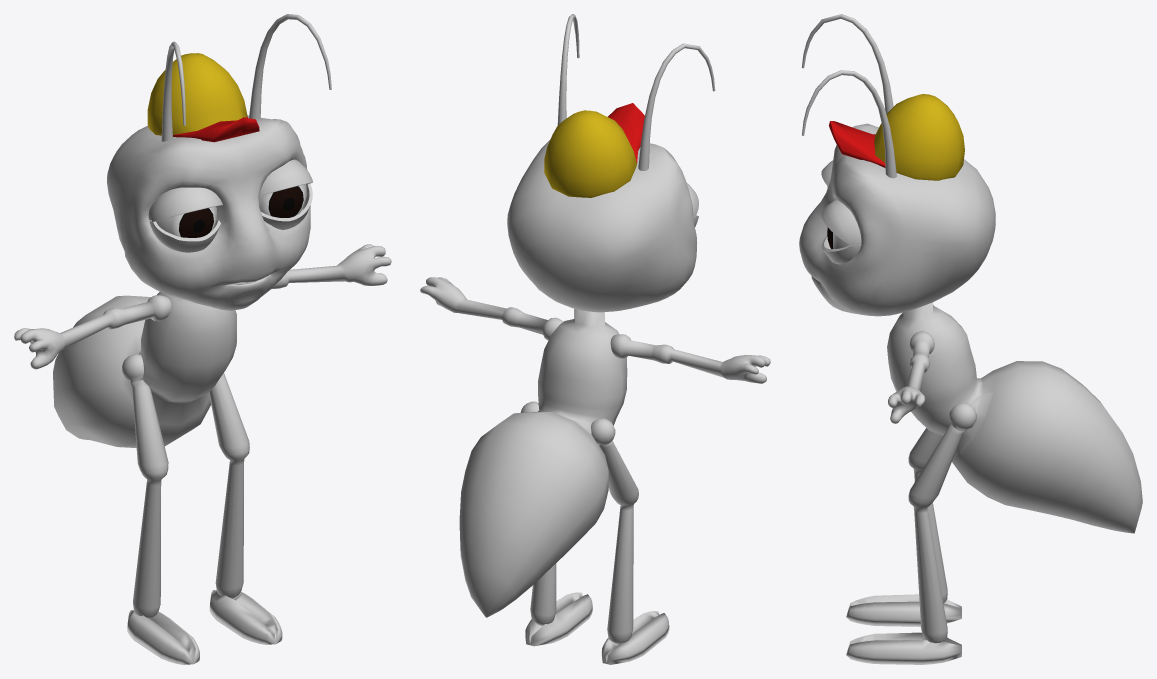
Rendered from Free_Ant_.obj.
3 views of the same model, side by side, from view 1: azimuth 30°, elevation 25°; view 2: azimuth 150°, elevation 25°; view 3: azimuth 270°, elevation 25° (orthographic). The views are drawn at different scales.
Visible parts, largest first — view 1: ANT.001_Sphere.011, Sphere_Sphere.001, eyelish.003_Sphere.008, eyeball_Sphere.002, eyeball.001_Sphere.006; view 2: ANT.001_Sphere.011, Sphere_Sphere.001; view 3: ANT.001_Sphere.011, Sphere_Sphere.001, eyelish.003_Sphere.008.
Boxes of the visible parts, x1=… form: ANT.001_Sphere.011: x1=14, y1=14, x2=391, y2=664; Sphere_Sphere.001: x1=147, y1=53, x2=259, y2=142; eyelish.003_Sphere.008: x1=148, y1=159, x2=312, y2=252; eyeball_Sphere.002: x1=156, y1=206, x2=217, y2=237; eyeball.001_Sphere.006: x1=259, y1=184, x2=307, y2=217; ANT.001_Sphere.011: x1=420, y1=14, x2=770, y2=664; Sphere_Sphere.001: x1=544, y1=103, x2=644, y2=197; ANT.001_Sphere.011: x1=799, y1=14, x2=1142, y2=664; Sphere_Sphere.001: x1=829, y1=94, x2=964, y2=180; eyelish.003_Sphere.008: x1=821, y1=160, x2=861, y2=264.
Bounding box in the file's own units: 1.27 × 2.1 × 1.1.
